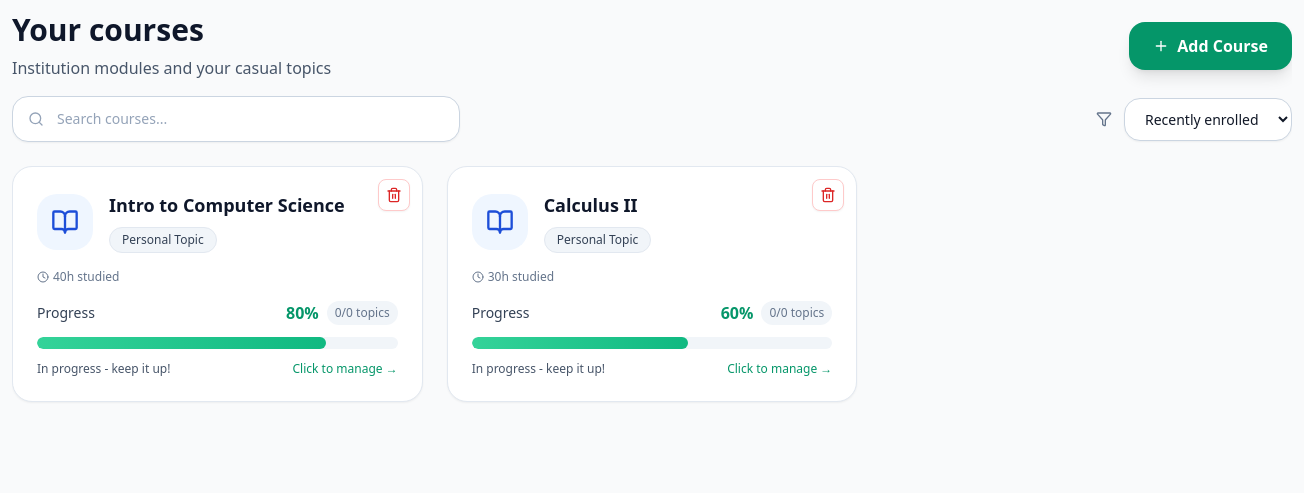
Test: CoursesPage - Course Management › can remove a course
expect the heading "Intro to Computer Science" is shown: met, box [109,193,345,217]
Click the button named "Remove".
click(394, 195)  # box [378,179,410,211]
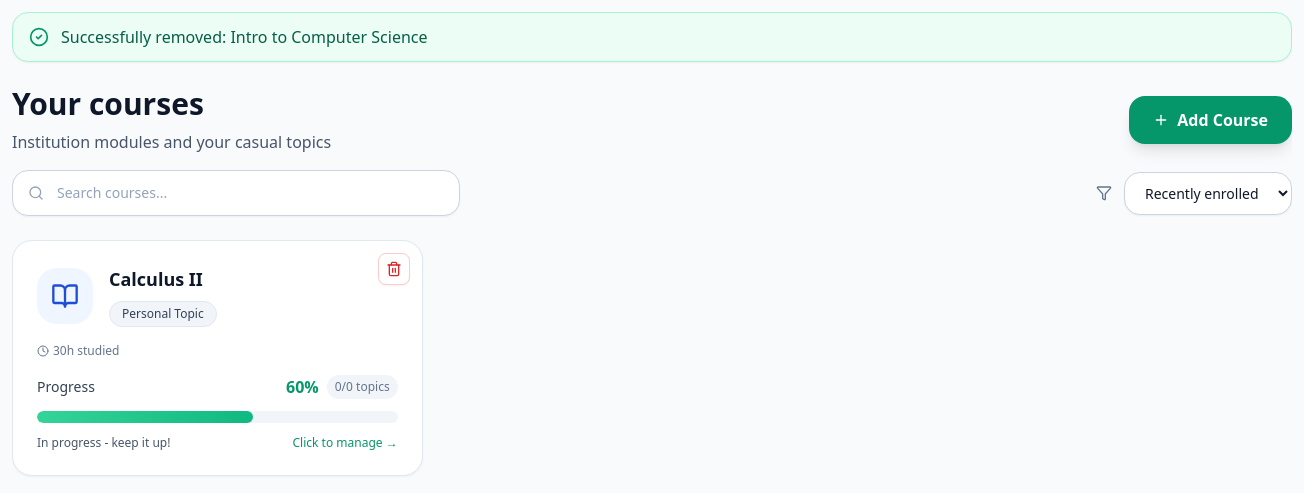
expect the text "Successfully removed: Intro to Computer Science" is shown: met, box [61,25,428,49]
